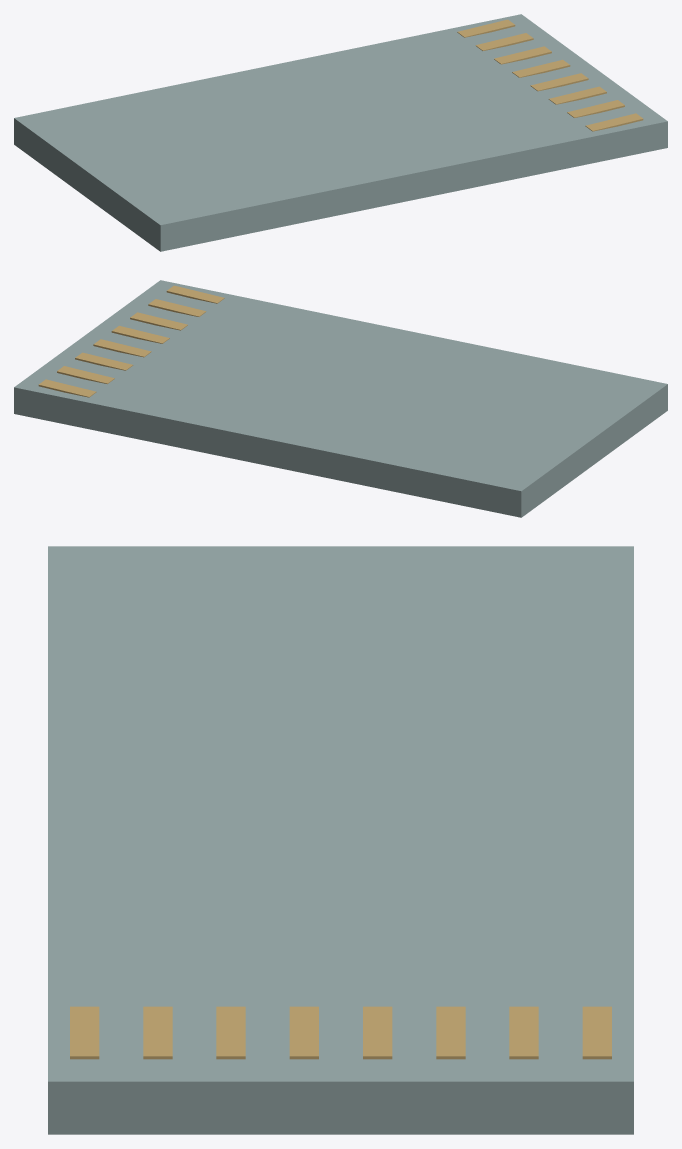
Rendered from Transit_Walk_W2_AccessibleRamp_4m.glb.
3 renders of one model, top to bottom at view 1: azimuth 30°, elevation 25°; view 2: azimuth 150°, elevation 25°; view 3: azimuth 270°, elevation 25°, orthographic. The views are drawn at different scales.
Parts seen in each view (by area): view 1: Transit_Walk_W2_AccessibleRamp_4m_Ramp, Transit_Walk_W2_AccessibleRamp_4m_Tactile; view 2: Transit_Walk_W2_AccessibleRamp_4m_Ramp, Transit_Walk_W2_AccessibleRamp_4m_Tactile; view 3: Transit_Walk_W2_AccessibleRamp_4m_Ramp, Transit_Walk_W2_AccessibleRamp_4m_Tactile.
Boxes of the visible parts, x1,y1,x2,y2 form: Transit_Walk_W2_AccessibleRamp_4m_Ramp: (14, 14, 667, 251); Transit_Walk_W2_AccessibleRamp_4m_Tactile: (457, 19, 643, 131); Transit_Walk_W2_AccessibleRamp_4m_Ramp: (14, 280, 667, 517); Transit_Walk_W2_AccessibleRamp_4m_Tactile: (38, 285, 224, 397); Transit_Walk_W2_AccessibleRamp_4m_Ramp: (48, 546, 633, 1134); Transit_Walk_W2_AccessibleRamp_4m_Tactile: (70, 1006, 611, 1059).
Bounding box in the file's own units: 4 × 0.35 × 2.
